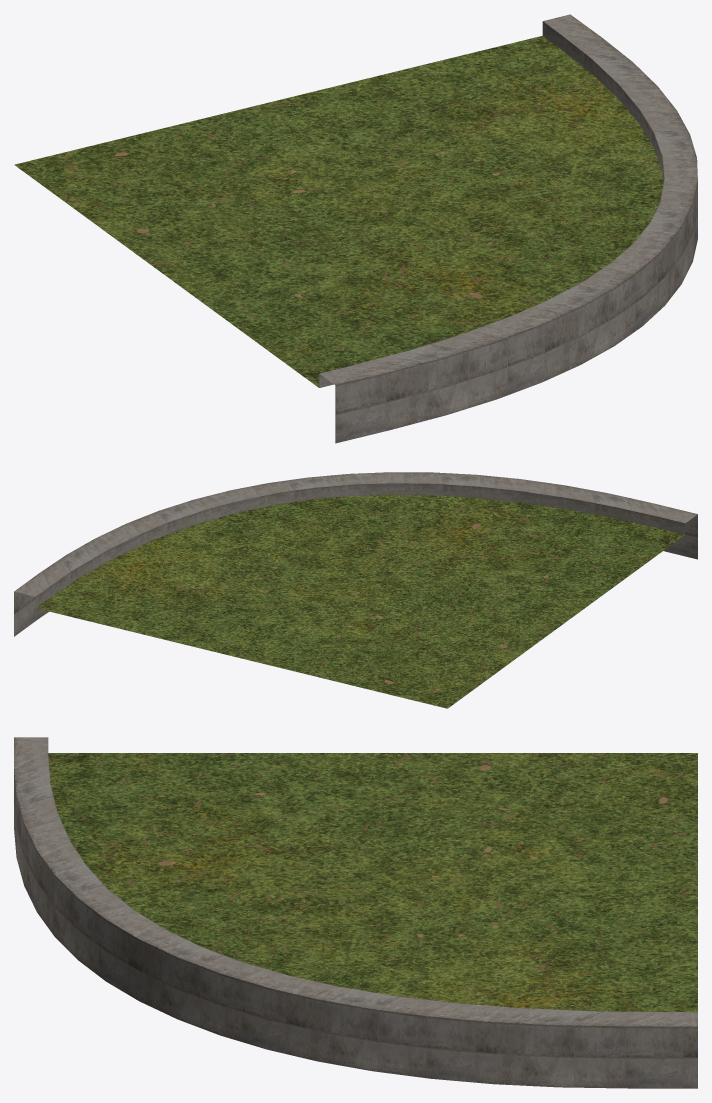
Rendered from SM_LawnAndSide_01_Corner.fbx.
3 renders of one model, top to bottom at view 1: azimuth 30°, elevation 25°; view 2: azimuth 150°, elevation 25°; view 3: azimuth 270°, elevation 25°, orthographic. The views are drawn at different scales.
Visible parts, largest first — view 1: SM_LawnAndSide_01_Corner_LOD0; view 2: SM_LawnAndSide_01_Corner_LOD0; view 3: SM_LawnAndSide_01_Corner_LOD0.
Part boxes in pixels (x1,y1,x2,y2): SM_LawnAndSide_01_Corner_LOD0: (14, 14, 697, 443); SM_LawnAndSide_01_Corner_LOD0: (14, 472, 697, 708); SM_LawnAndSide_01_Corner_LOD0: (14, 737, 697, 1088).
Size of the model in its own units: 200 by 200 by 20.
Materials: 2 (2 with a texture image).
